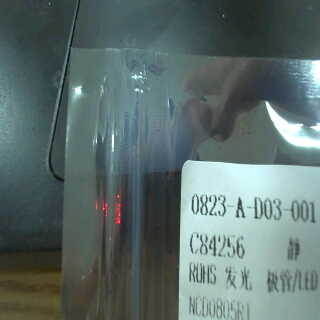LED: (222, 257, 320, 296)
